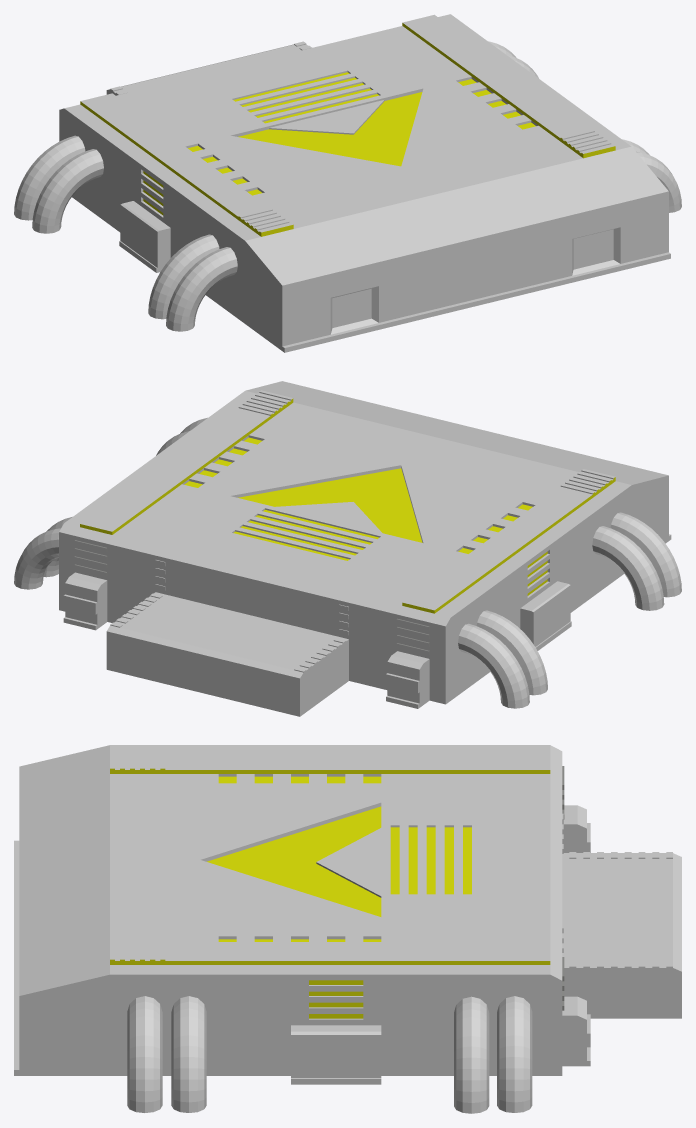
File: Plataforma de Salto.dae
3 renders of one model, top to bottom at view 1: azimuth 30°, elevation 25°; view 2: azimuth 150°, elevation 25°; view 3: azimuth 270°, elevation 25°, orthographic. The views are drawn at different scales.
Visible parts, largest first — view 1: Cube, Torus_005; view 2: Cube, Torus_005; view 3: Cube, Torus_005.
Boxes of the visible parts, x1,y1,x2,y2 form: Cube: (59, 14, 670, 352); Torus_005: (14, 41, 681, 331); Cube: (59, 381, 671, 716); Torus_005: (14, 417, 681, 708); Cube: (14, 745, 681, 1084); Torus_005: (127, 996, 532, 1113).
Bounding box in the file's own units: 2.09 × 1.94 × 0.3435.
